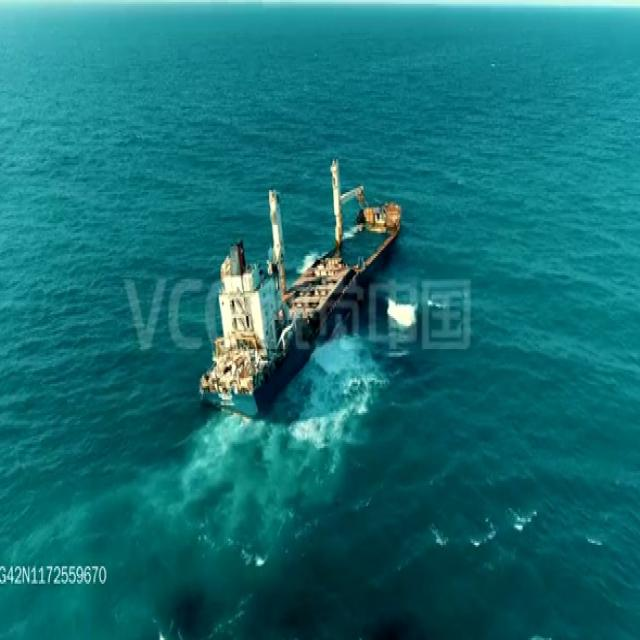cargoship: (196, 159, 397, 419)
